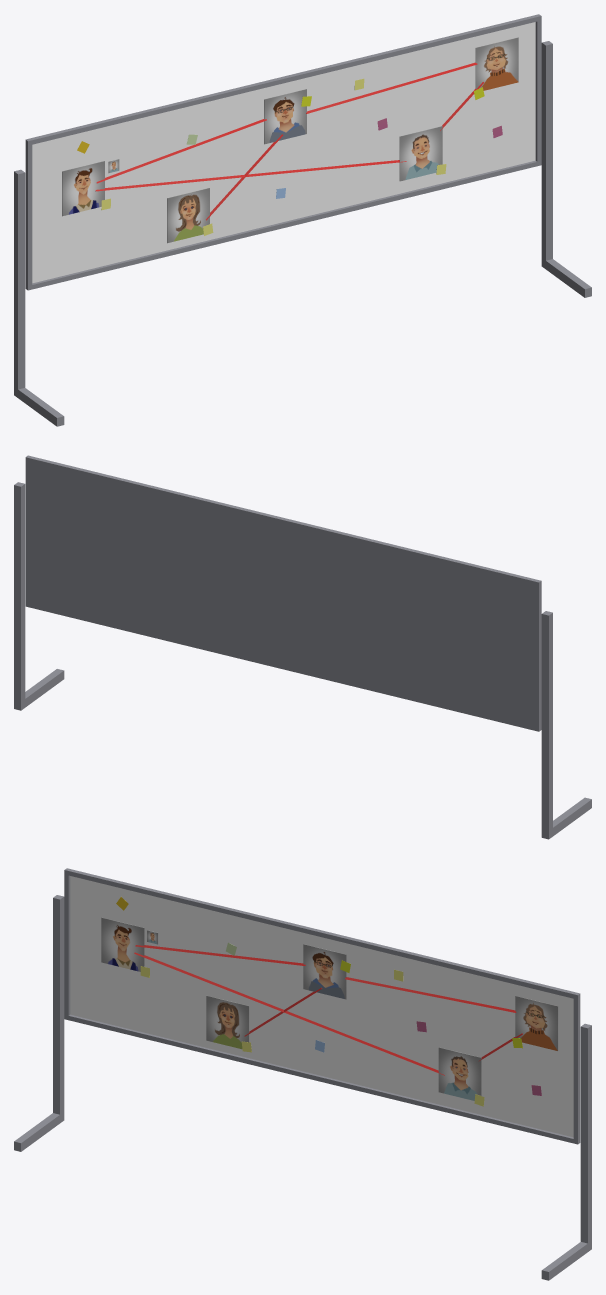
The model's file is g_o_PoliceInvestigationBoard.fbx.
The picture shows the model from 3 angles, top to bottom: view 1: azimuth 30°, elevation 25°; view 2: azimuth 150°, elevation 25°; view 3: azimuth 330°, elevation 25°; orthographic projection.
Parts seen in each view (by area): view 1: g_o_PoliceInvestigationBoard; view 2: g_o_PoliceInvestigationBoard; view 3: g_o_PoliceInvestigationBoard.
Boxes of the visible parts, x1,y1,x2,y2 form: g_o_PoliceInvestigationBoard: (14, 14, 591, 426); g_o_PoliceInvestigationBoard: (14, 455, 591, 839); g_o_PoliceInvestigationBoard: (14, 868, 591, 1280).
Bounding box in the file's own units: 3.75 × 1.7 × 0.5229.
